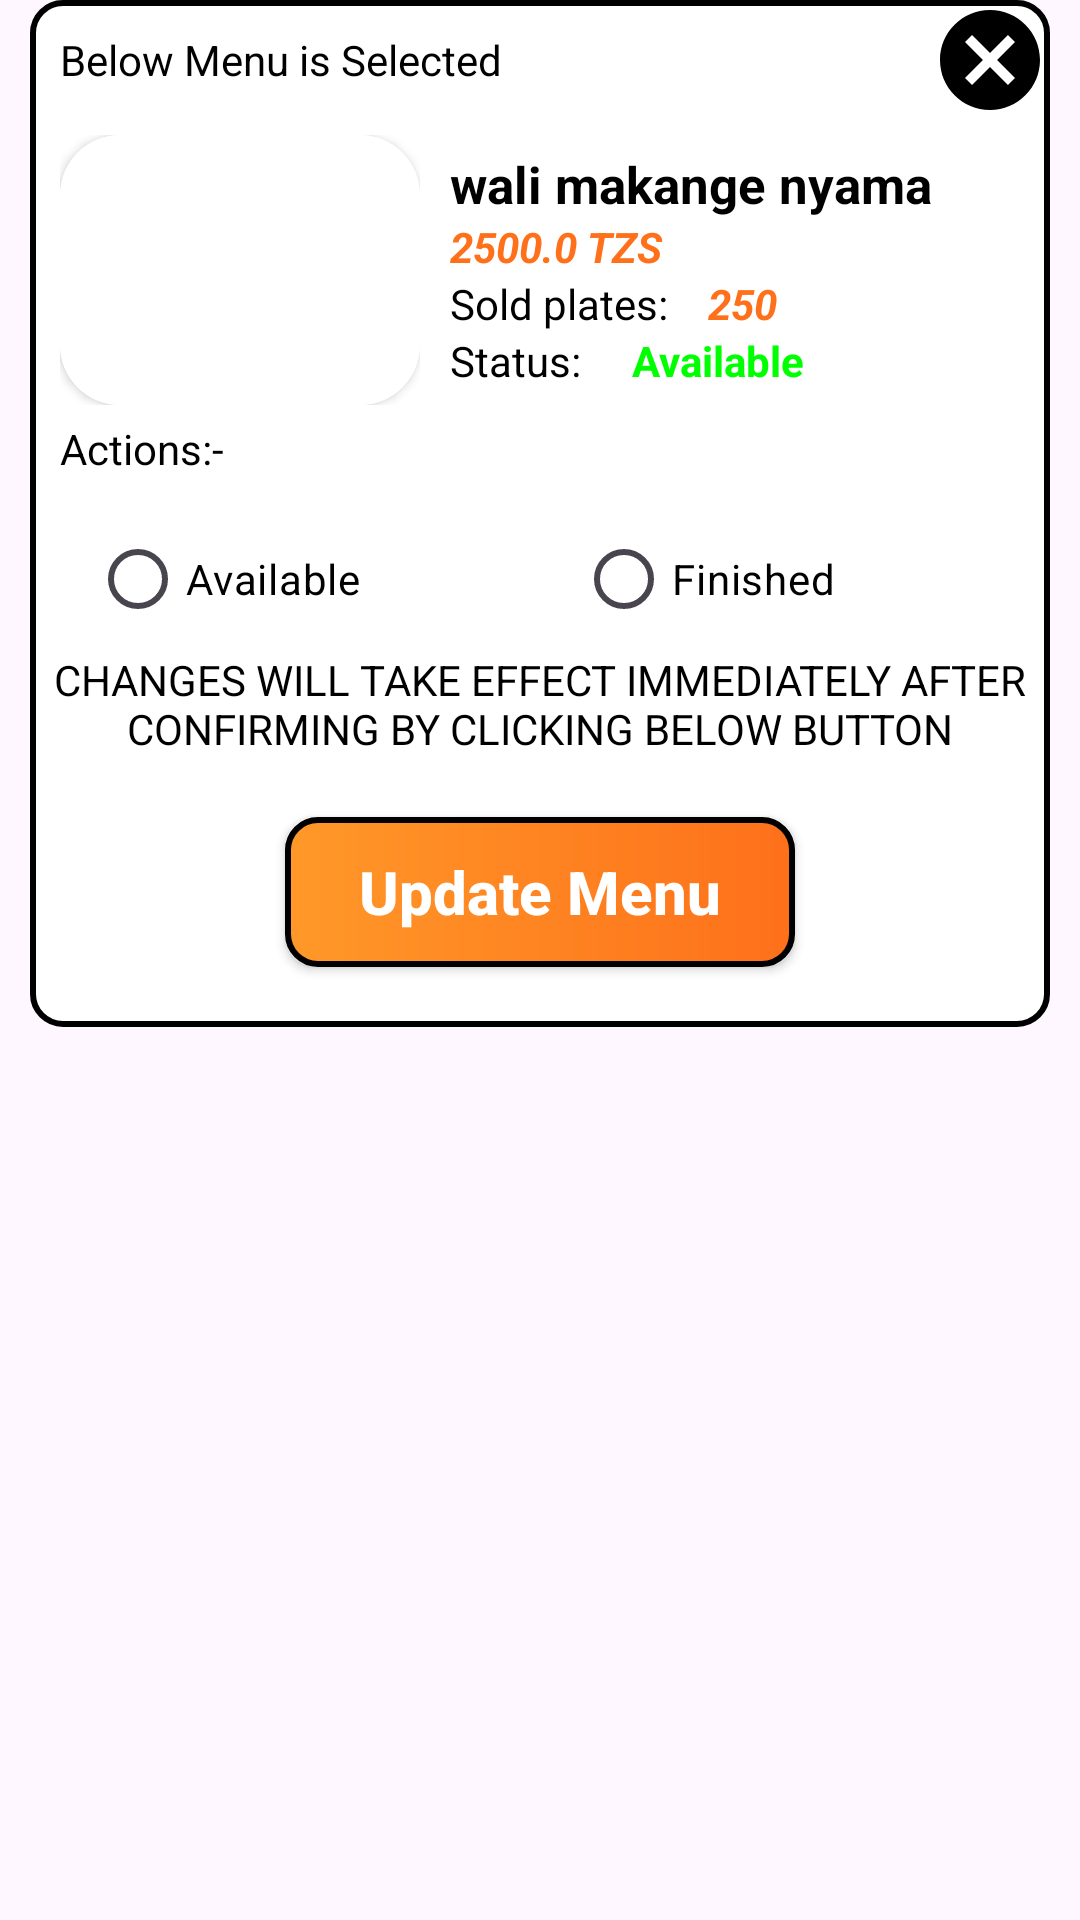

Icons on this 1080px×1920px Android screen, each with the point to tap as [x,y]:
cancel: [990,60]
